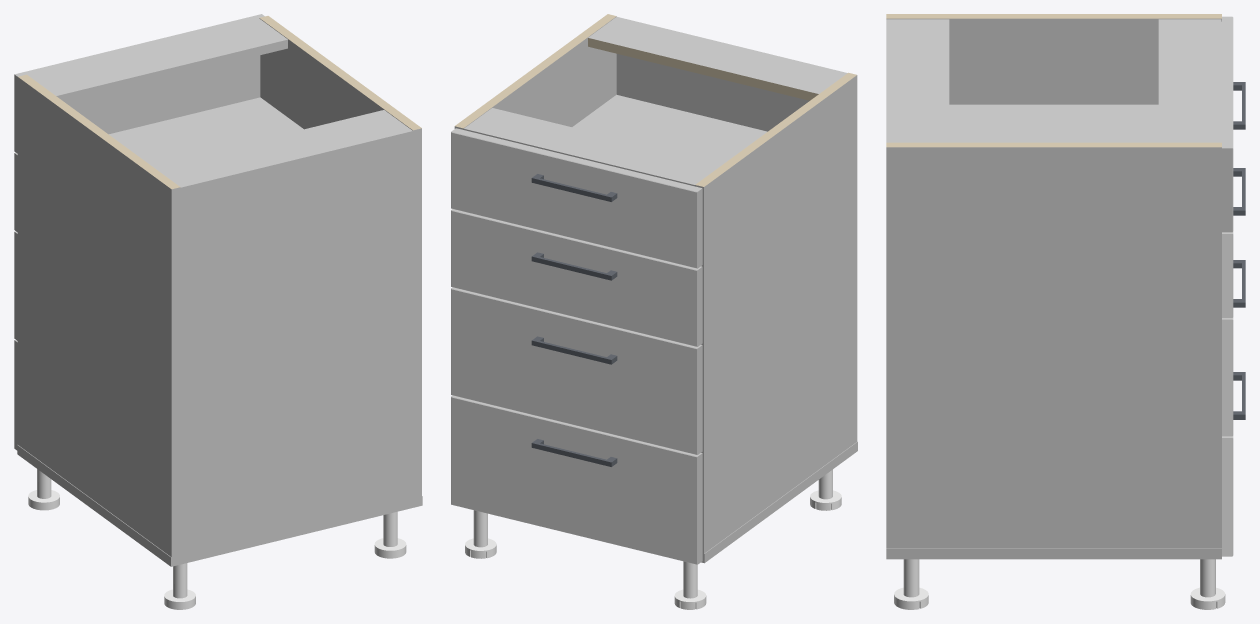
File: fioke_50cm.glb
The picture shows the model from 3 angles, left to right: view 1: azimuth 30°, elevation 25°; view 2: azimuth 150°, elevation 25°; view 3: azimuth 270°, elevation 25°; orthographic projection. The views are drawn at different scales.
Visible parts, largest first — view 1: Group1, Group2; view 2: Group1, Group2; view 3: Group1, Group2.
Part boxes in pixels (x1=…): Group1: x1=14, y1=14, x2=422, y2=566; Group2: x1=28, y1=469, x2=406, y2=609; Group1: x1=451, y1=14, x2=857, y2=564; Group2: x1=465, y1=469, x2=841, y2=609; Group1: x1=886, y1=14, x2=1245, y2=559; Group2: x1=894, y1=559, x2=1225, y2=609.
Size of the model in its own units: 502 by 815 by 570.
